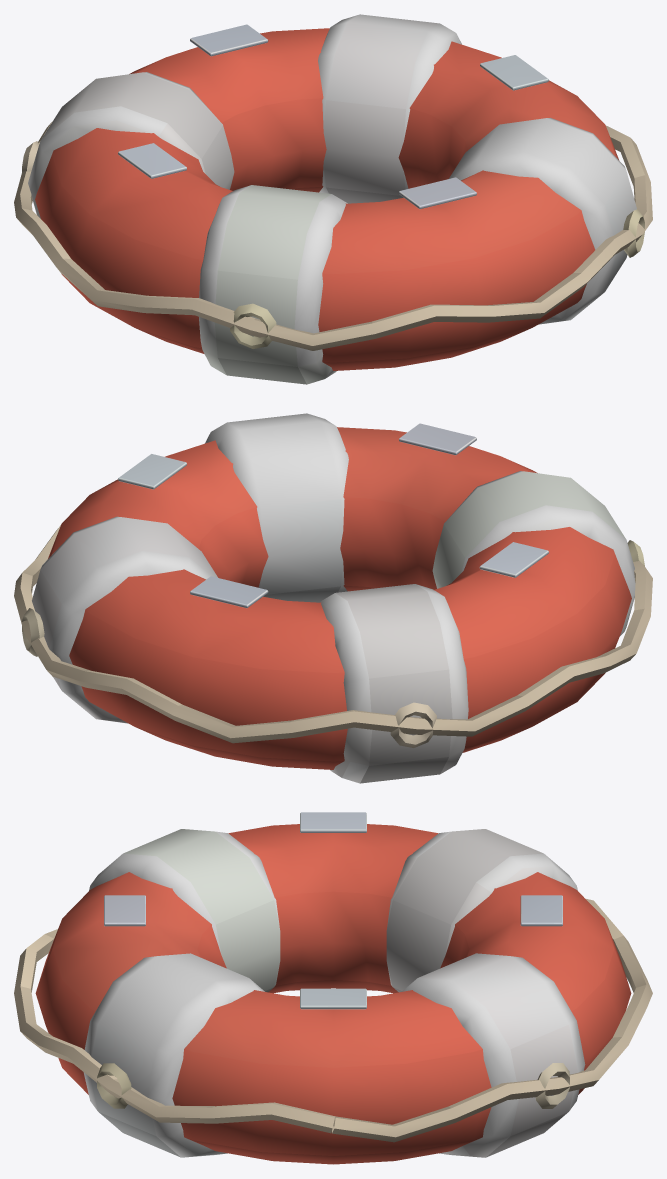
File: SM_Prop_LifeRing.fbx
3 views of the same model, one above another, from view 1: azimuth 30°, elevation 25°; view 2: azimuth 150°, elevation 25°; view 3: azimuth 270°, elevation 25° (orthographic).
Visible parts, largest first — view 1: SM_Prop_LifeRing; view 2: SM_Prop_LifeRing; view 3: SM_Prop_LifeRing.
Part boxes in pixels (bbox=[...]): SM_Prop_LifeRing: bbox=[14, 14, 652, 384]; SM_Prop_LifeRing: bbox=[14, 413, 652, 783]; SM_Prop_LifeRing: bbox=[14, 812, 652, 1164].
Bounding box in the file's own units: 77.26 × 23.26 × 77.27.
